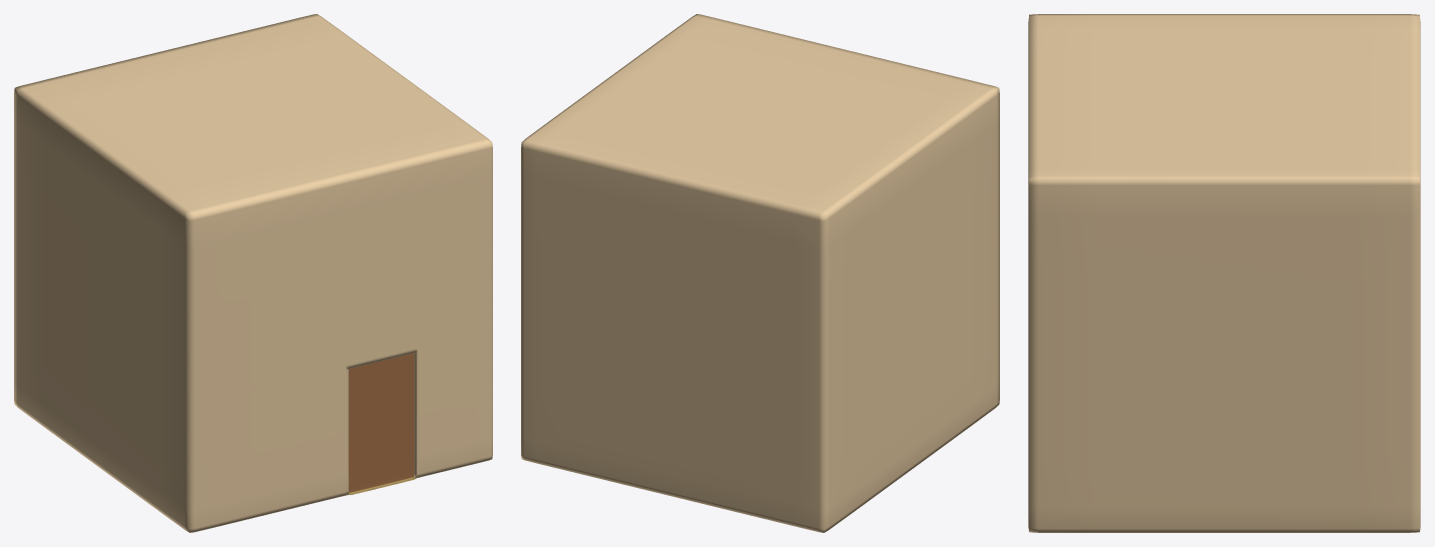
The model's file is Room Timry Outside.fbx.
The picture shows the model from 3 angles, left to right: view 1: azimuth 30°, elevation 25°; view 2: azimuth 150°, elevation 25°; view 3: azimuth 270°, elevation 25°; orthographic projection. The views are drawn at different scales.
Parts seen in each view (by area): view 1: Cube.009; view 2: Cube.009; view 3: Cube.009.
Part boxes in pixels (left/top/right/bottom): Cube.009: left=14, top=14, right=492, bottom=532; Cube.009: left=521, top=14, right=999, bottom=532; Cube.009: left=1028, top=14, right=1420, bottom=532.
Size of the model in its own units: 4012 by 4012 by 4012.
